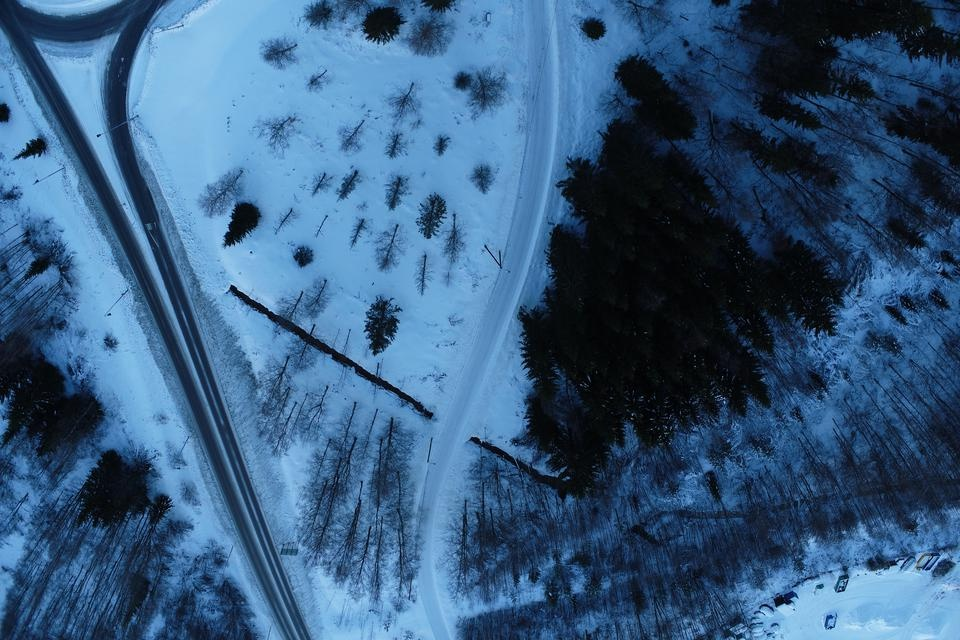roundabout: (0, 0, 185, 85)
